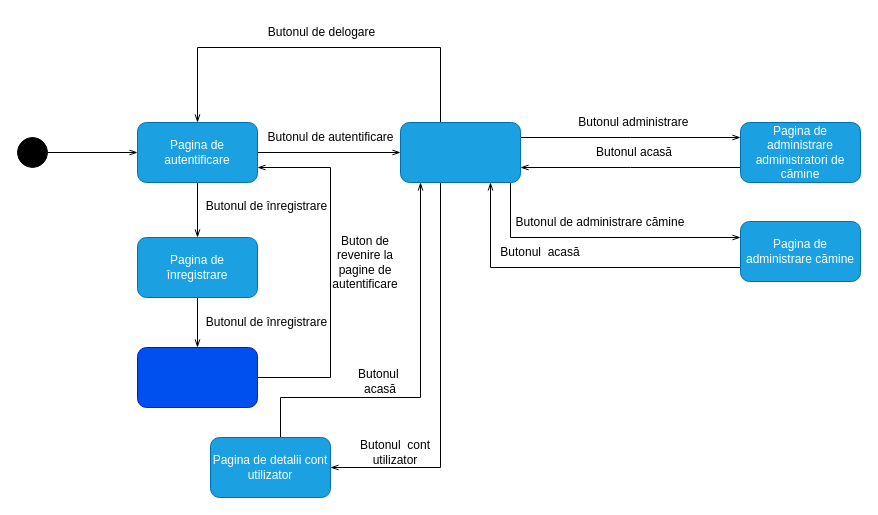
Some shapes in this 878 by 515 pixel diagram are drawn without their labels. Here are the shapes that lost their labels. From the top down, the centre of each, then its label:
At (x=460, y=152): "Pagină acasă".
At (x=197, y=377): "Pop-up de confirmare cerere de înregistrare trimisă".
